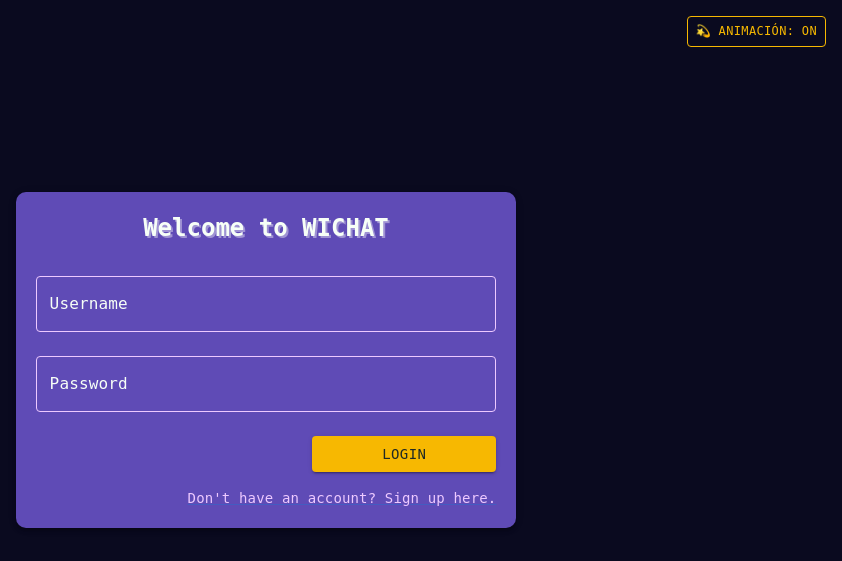
Test: Login component › should handle error when logging in
In the field labelled "Username": (266, 304) [36,276,496,332], type "testUser"
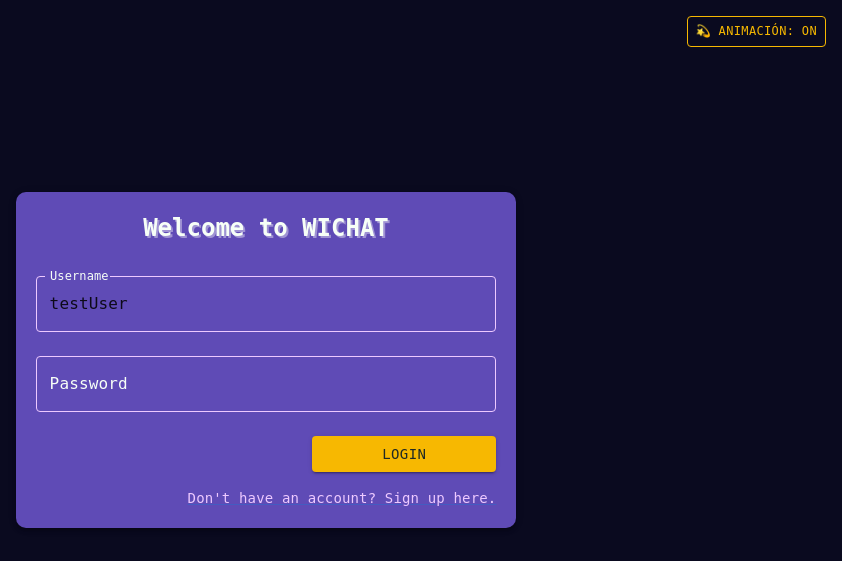
In the password field labelled "Password": (266, 384) [36,356,496,412], type "wPass"
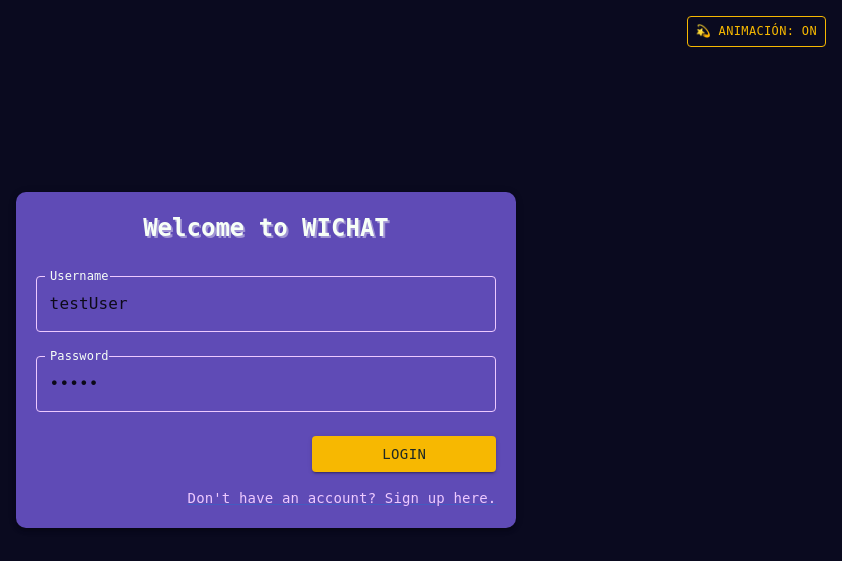
Click the button "Login": (404, 454) [312,436,496,472]
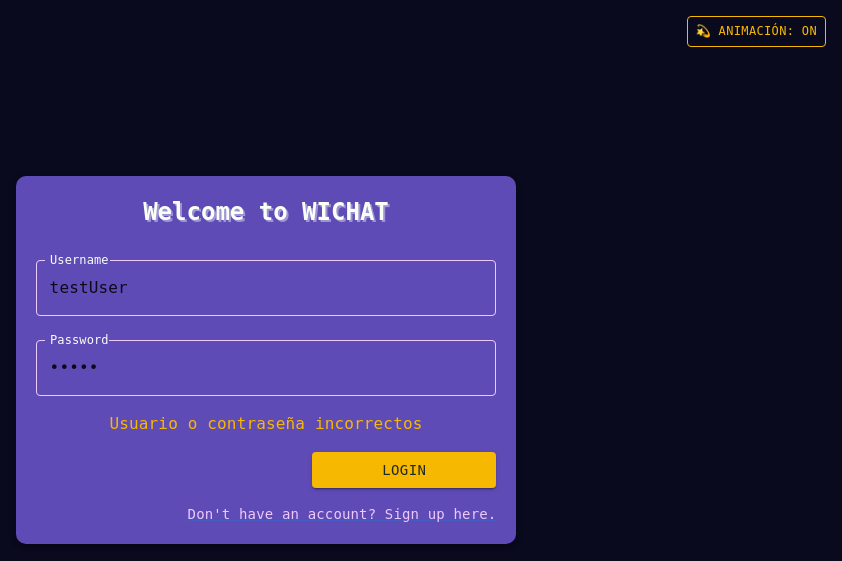
Result: the text "Usuario o contraseña incorrectos" is shown at [110,414,423,433]
